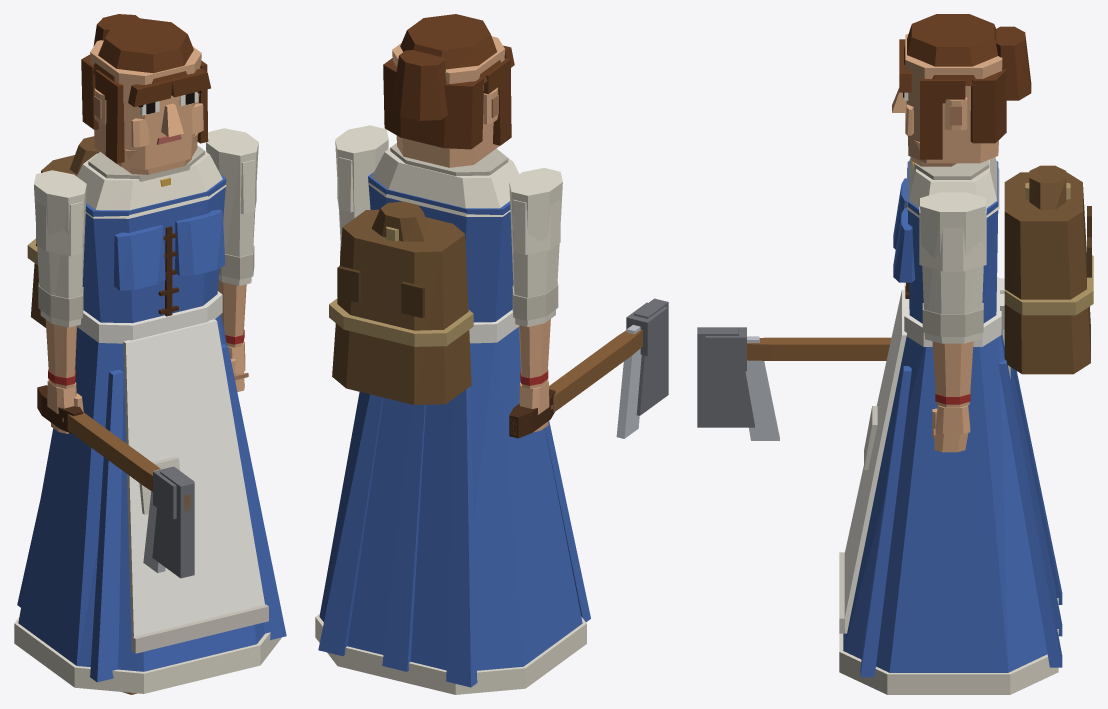
The model's file is villager_female.obj.
The picture shows the model from 3 angles, left to right: view 1: azimuth 30°, elevation 25°; view 2: azimuth 150°, elevation 25°; view 3: azimuth 270°, elevation 25°; orthographic projection.
Visible parts, largest first — view 1: Apron, Skirt, Skirt.Fold, Bodice, Skirt.Petticoat, Head, Blouse, Arm.R, Head.Hair.Top, Arm.L, Arm.R.Lower.Tool.Head, Bodice.Bust.R (+29 smaller); view 2: Skirt, Skirt.Fold, Load, Bodice, Skirt.Petticoat, Blouse, Arm.R, Head.Hair.Back, Head.Hair.Top, Head.Hair.Bun, Head, Arm.L (+18 smaller); view 3: Skirt, Load, Skirt.Fold, Arm.L, Apron, Skirt.Petticoat, Head.Hair.Top, Head, Arm.R.Lower.Tool.Head, Arm.R.Lower.Tool.Handle, Bodice, Head.Hair.Back (+16 smaller).
Part boxes in pixels (x1,y1,x2,y2): Apron: (123,319,264,651); Skirt: (18,314,265,671); Skirt.Fold: (17,344,286,682); Bodice: (82,174,226,323); Skirt.Petticoat: (14,617,281,693); Head: (90,40,201,169); Blouse: (77,151,226,218); Arm.R: (34,170,86,327); Head.Hair.Top: (91,18,193,83); Arm.L: (206,128,258,285); Arm.R.Lower.Tool.Head: (152,468,194,578); Bodice.Bust.R: (114,225,165,290); Skirt: (319,327,582,670); Skirt.Fold: (318,387,590,687); Load: (332,209,471,404); Bodice: (368,172,513,322); Skirt.Petticoat: (315,614,586,694); Blouse: (368,148,518,216); Arm.R: (509,168,562,326); Head.Hair.Back: (383,58,483,149); Head.Hair.Top: (400,14,501,84); Head.Hair.Bun: (391,50,447,120); Head: (392,36,504,167); Arm.L: (335,125,388,245); Skirt: (843,330,1047,672); Load: (1004,172,1090,374); Skirt.Fold: (860,360,1062,677); Arm.L: (920,192,985,343); Apron: (844,290,906,633); Skirt.Petticoat: (839,598,1058,694); Head.Hair.Top: (904,14,998,85); Head: (905,33,1002,163); Arm.R.Lower.Tool.Head: (697,327,754,427); Arm.R.Lower.Tool.Handle: (747,337,891,360); Bodice: (907,161,998,323); Head.Hair.Back: (970,69,1006,143).
Bounding box in the file's own units: 0.604 × 1.71 × 0.961.
